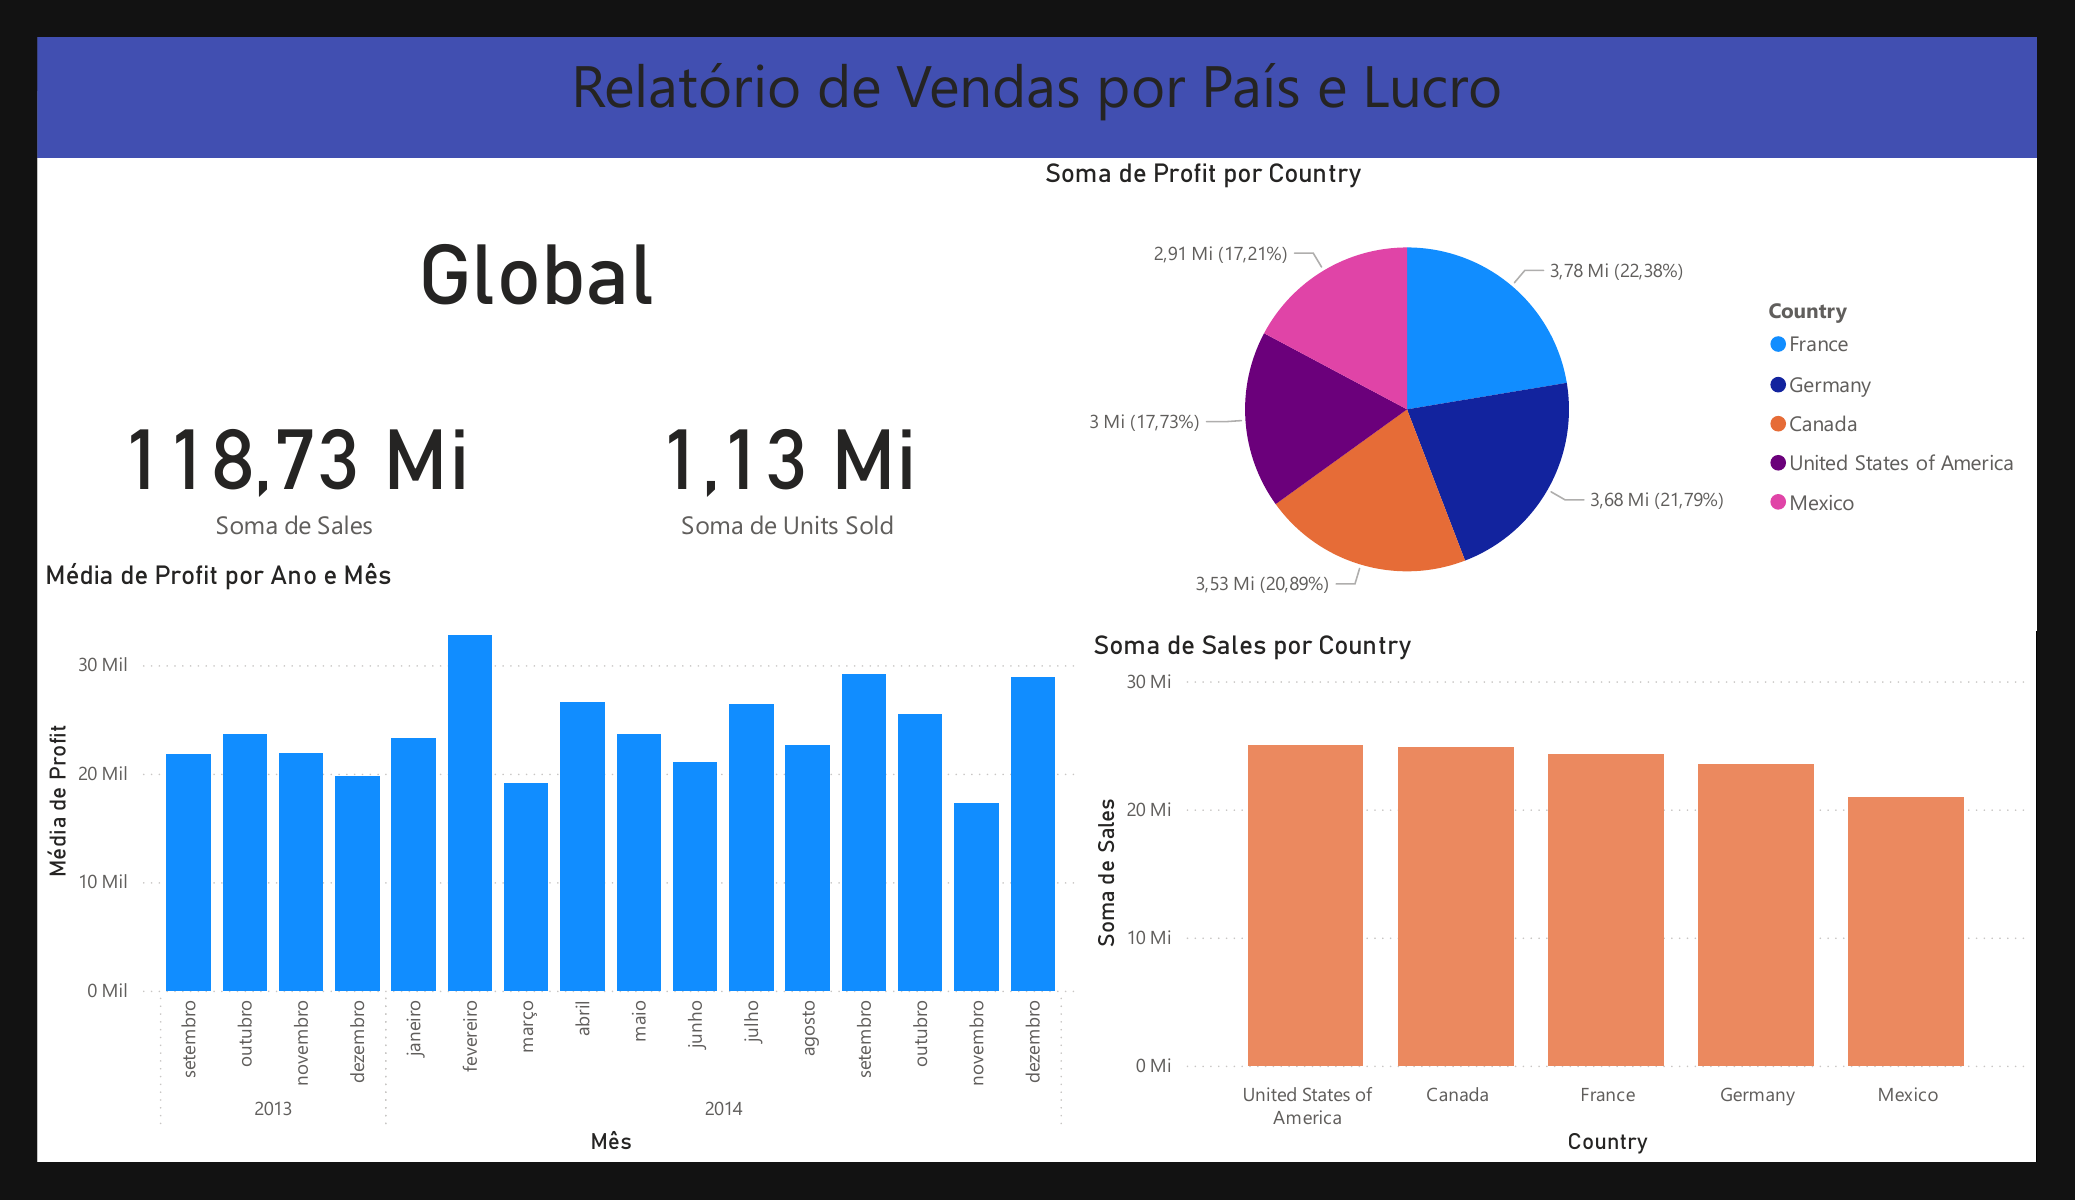

The dashboard page shown, as its layout file describes it:
{"tool":"powerbi","page":{"name":"Página 2","canvas":[1280,720],"ordinal":1},"visuals":[{"type":"textbox","box":[10.7,180,671.9,137.2],"z":0,"group":"g1"},{"type":"clusteredColumnChart","fields":{"Y":["Avg(financials.Profit)"],"Category":["financials.Date.Variation.Hierarquia de datas.Ano","financials.Date.Variation.Hierarquia de datas.Mês"]},"box":[0,333.8,671.1,386.2],"z":0},{"type":"textbox","box":[0,0,1280,80],"z":1000,"group":"g1"},{"type":"clusteredColumnChart","fields":{"Y":["Avg(financials.Profit)"],"Category":["financials.Date.Variation.Hierarquia de datas.Ano","financials.Date.Variation.Hierarquia de datas.Mês"]},"box":[16,336,672,384],"z":1000},{"type":"card","fields":{"Values":["Sum(financials.Sales)"]},"box":[0,208,336,128],"z":2000,"group":"g1"},{"type":"clusteredColumnChart","fields":{"Y":["Avg(financials.Profit)"],"Category":["financials.Date.Variation.Hierarquia de datas.Ano","financials.Date.Variation.Hierarquia de datas.Mês"]},"box":[10,333.8,671.1,386.2],"z":2000},{"type":"card","fields":{"Values":["Sum(financials.Units Sold)"]},"box":[352,208,320,128],"z":3000,"group":"g1"},{"type":"clusteredColumnChart","fields":{"Y":["Avg(financials.Profit)"],"Category":["financials.Date.Variation.Hierarquia de datas.Ano","financials.Date.Variation.Hierarquia de datas.Mês"]},"box":[20,333.8,671.1,386.2],"z":3000},{"type":"group","id":"g1","title":"Grupo 1","box":[0,0,1280,720],"z":4000},{"type":"pieChart","title":"Lucro por País","fields":{"Category":["financials.Country"],"Y":["Sum(financials.Profit)"]},"box":[672,80,608,296],"z":4000,"group":"g1"},{"type":"actionButton","box":[24,16,96,40],"z":4001},{"type":"clusteredColumnChart","title":"Média de Lucro por Ano e Mês","fields":{"Y":["Avg(financials.Profit)"],"Category":["financials.Date.Variation.Hierarquia de datas.Ano","financials.Date.Variation.Hierarquia de datas.Mês"]},"box":[0,333.8,671.1,386.2],"z":5000,"group":"g1"},{"type":"clusteredColumnChart","title":"Vendas por País","fields":{"Category":["financials.Country"],"Y":["Sum(financials.Sales)"]},"box":[672,376,608,344],"z":6000,"group":"g1"},{"type":"card","fields":{"Values":["financials.Vendas Pais_Selecionado"]},"box":[0,80,672,144],"z":7000,"group":"g1"}]}

Visuals, with their boxes on the page's 1280x720 design canvas (x1, y1, x2, y2). These are canvas units, not pixel positions in the 2075x1200 screenshot, which may show the page scaled, cropped or inside an application window:
textbox: Rect(11, 180, 683, 317)
clusteredColumnChart - Avg(financials.Profit) x financials.Date.Variation.Hierarquia de datas.Ano: Rect(0, 334, 671, 720)
textbox: Rect(0, 0, 1280, 80)
clusteredColumnChart - Avg(financials.Profit) x financials.Date.Variation.Hierarquia de datas.Ano: Rect(16, 336, 688, 720)
card - Sum(financials.Sales): Rect(0, 208, 336, 336)
clusteredColumnChart - Avg(financials.Profit) x financials.Date.Variation.Hierarquia de datas.Ano: Rect(10, 334, 681, 720)
card - Sum(financials.Units Sold): Rect(352, 208, 672, 336)
clusteredColumnChart - Avg(financials.Profit) x financials.Date.Variation.Hierarquia de datas.Ano: Rect(20, 334, 691, 720)
"Grupo 1" group: Rect(0, 0, 1280, 720)
"Lucro por País" pieChart: Rect(672, 80, 1280, 376)
actionButton: Rect(24, 16, 120, 56)
"Média de Lucro por Ano e Mês" clusteredColumnChart: Rect(0, 334, 671, 720)
"Vendas por País" clusteredColumnChart: Rect(672, 376, 1280, 720)
card - financials.Vendas Pais_Selecionado: Rect(0, 80, 672, 224)
